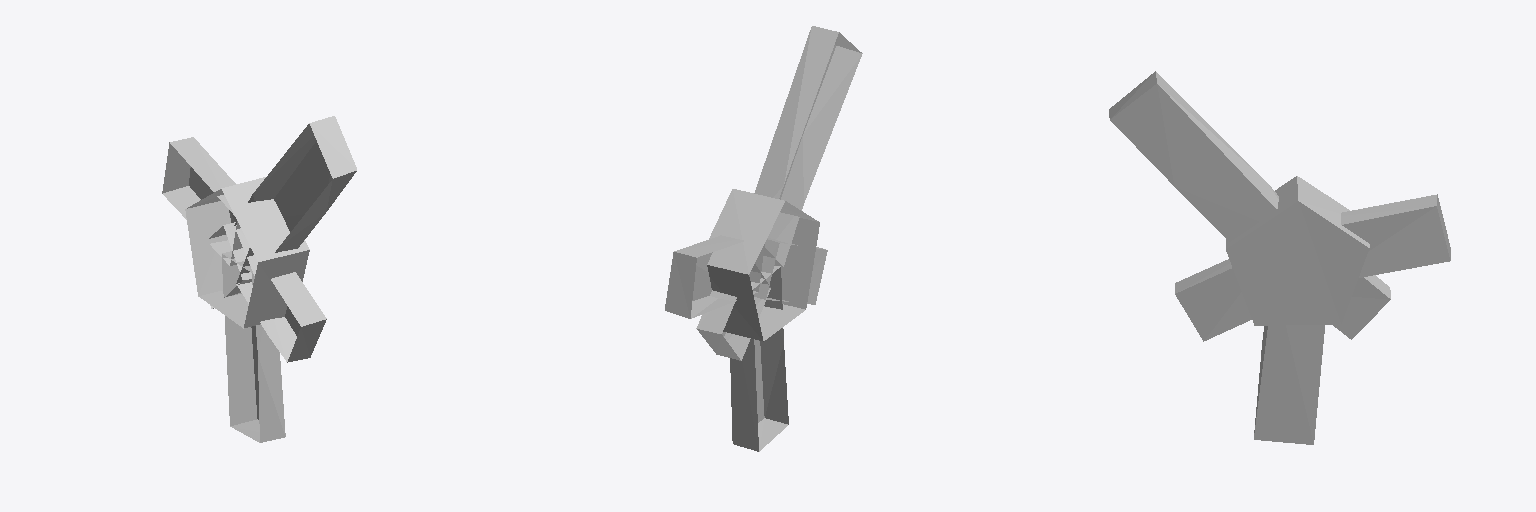
The model's file is clock3.obj.
3 views of the same model, side by side, from view 1: azimuth 30°, elevation 25°; view 2: azimuth 150°, elevation 25°; view 3: azimuth 270°, elevation 25° (orthographic).
Bounding box in the file's own units: 0.0148 × 0.0955 × 0.0819.